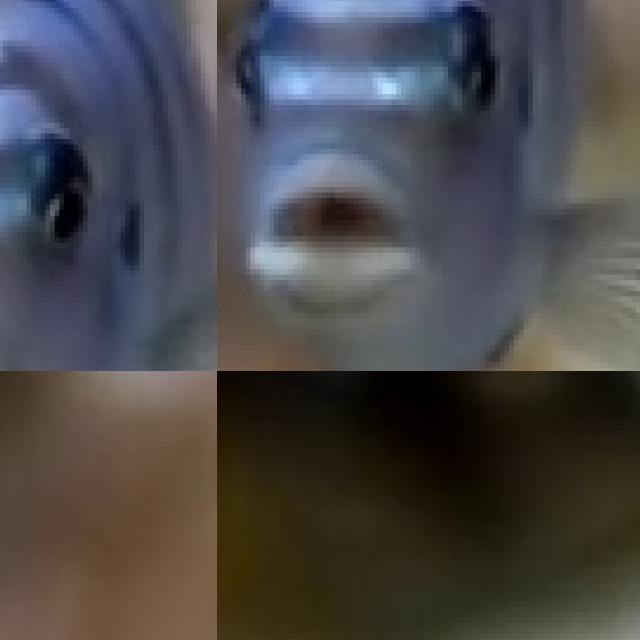fish: (217, 0, 640, 371), (217, 371, 640, 640), (0, 0, 217, 371)
